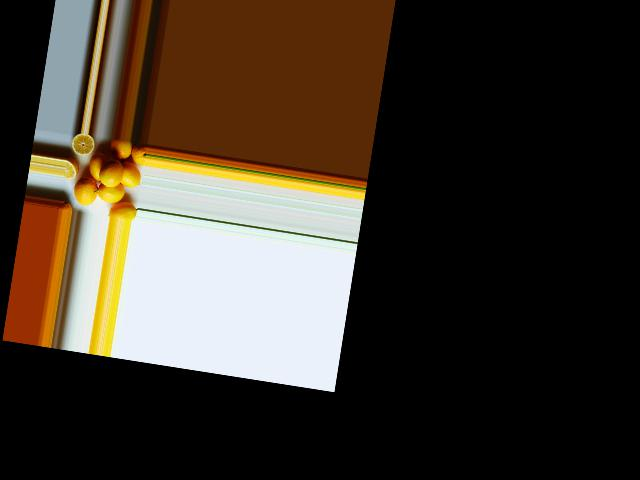lemon: (109, 138, 132, 161)
